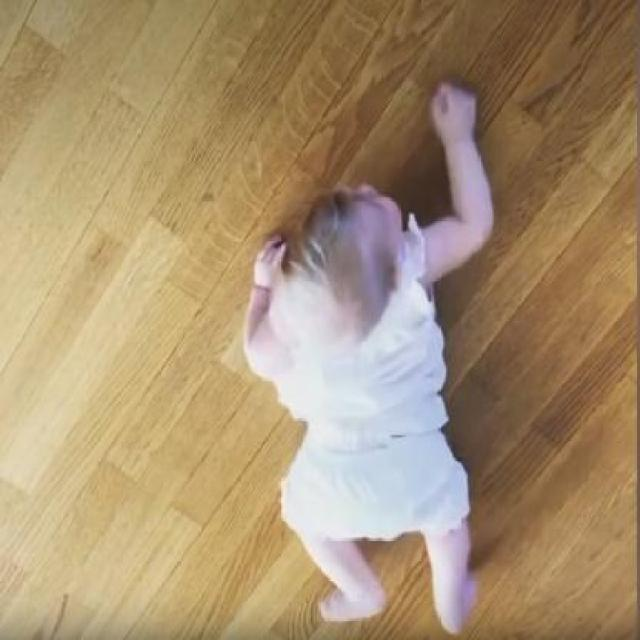baby: (237, 82, 492, 636)
